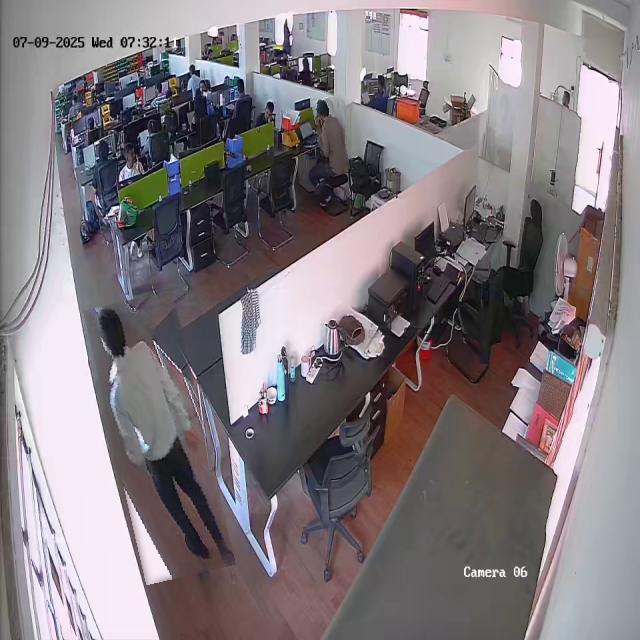person: (99, 293, 221, 582), (315, 97, 348, 177)
